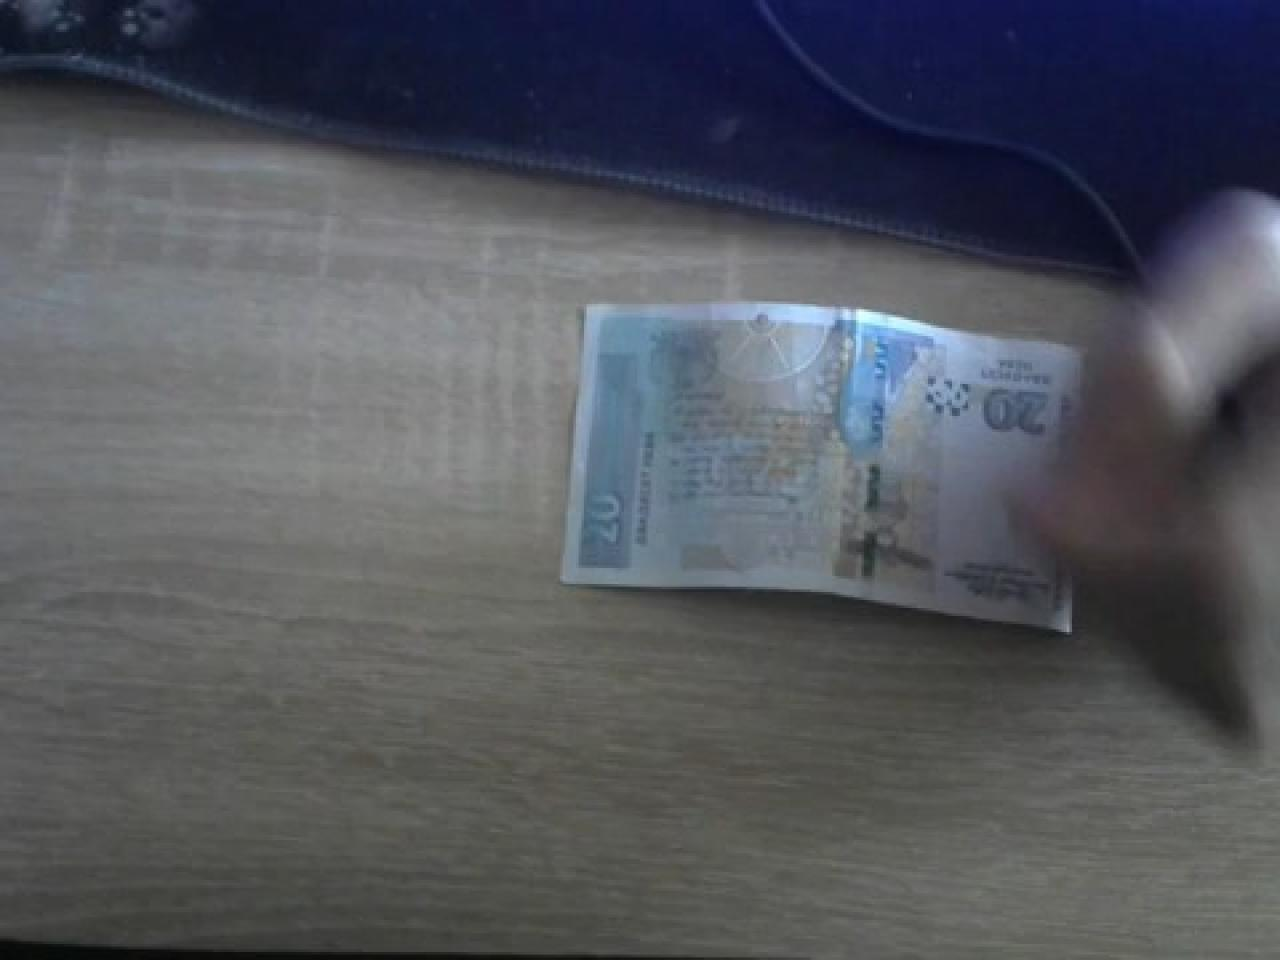20leva: (560, 304, 1075, 635)
